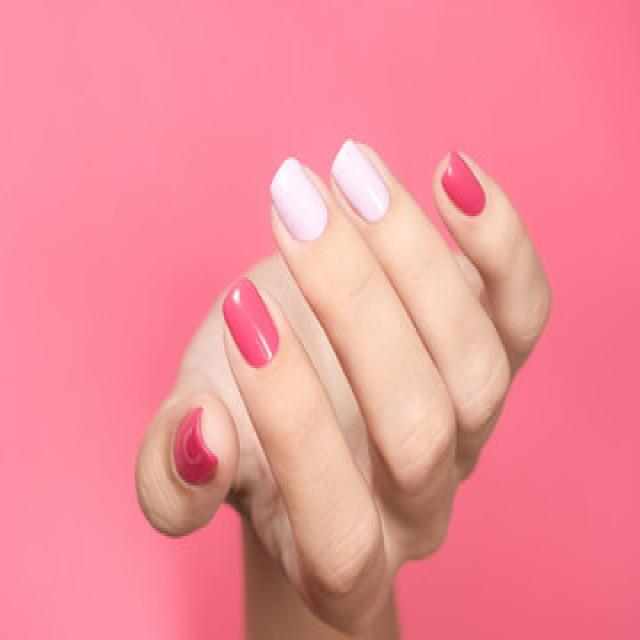Fingernail: (221, 278, 280, 366), (269, 161, 328, 242), (334, 143, 394, 215), (174, 407, 215, 485), (442, 152, 487, 215)
